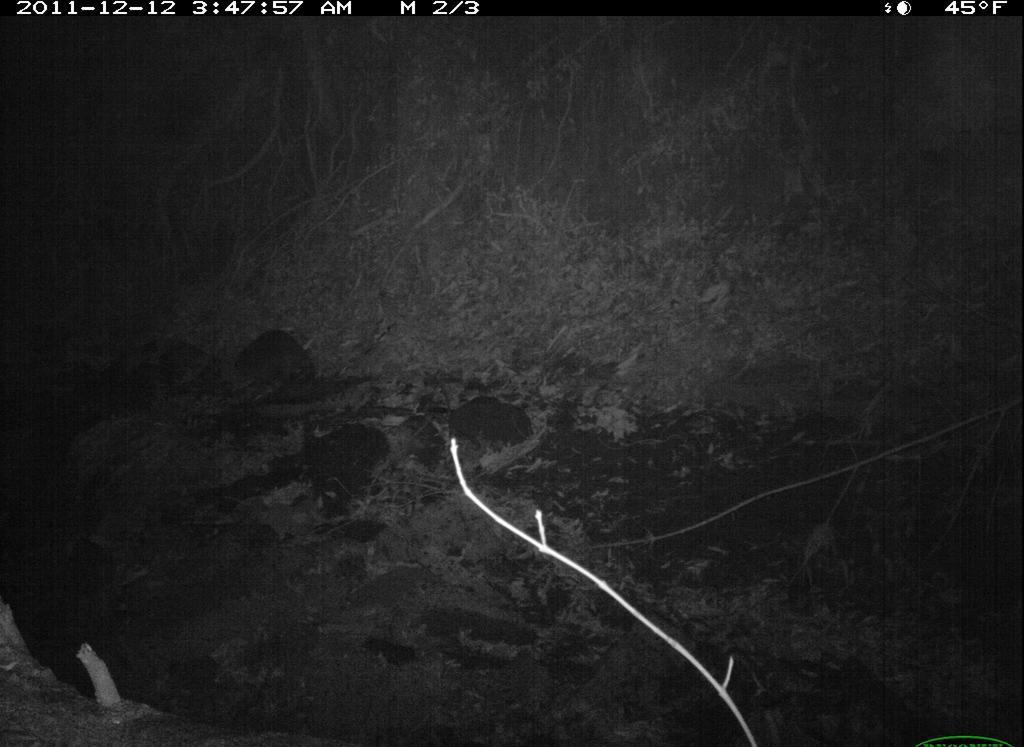raccoon: (210, 310, 332, 415)
